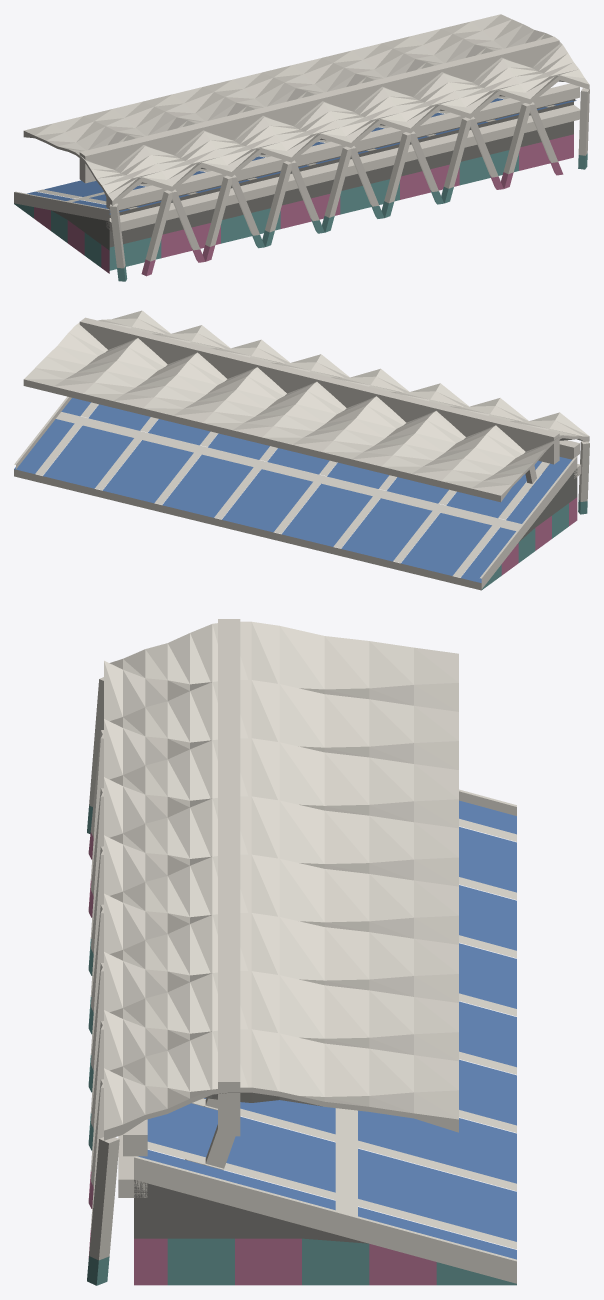
File: mia-marine-stadium.glb
The picture shows the model from 3 angles, top to bottom: view 1: azimuth 30°, elevation 25°; view 2: azimuth 150°, elevation 25°; view 3: azimuth 270°, elevation 25°; orthographic projection. The views are drawn at different scales.
Visible parts, largest first — view 1: Miami Marine Stadium; view 2: Miami Marine Stadium; view 3: Miami Marine Stadium.
Part boxes in pixels (bbox=[...]): Miami Marine Stadium: bbox=[14, 14, 589, 281]; Miami Marine Stadium: bbox=[14, 310, 589, 590]; Miami Marine Stadium: bbox=[87, 619, 516, 1285].
Bounding box in the file's own units: 99.04 × 20.35 × 38.42.
